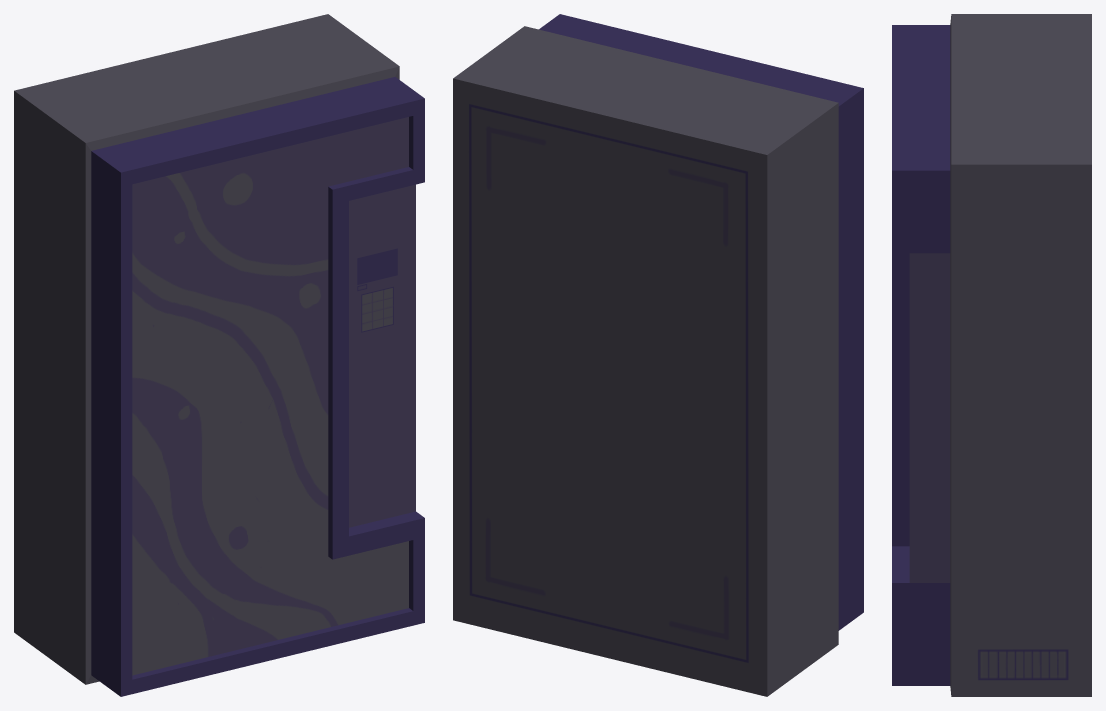
File: vending_export.fbx
3 views of the same model, side by side, from view 1: azimuth 30°, elevation 25°; view 2: azimuth 150°, elevation 25°; view 3: azimuth 270°, elevation 25° (orthographic).
Parts seen in each view (by area): view 1: pCube1; view 2: pCube1; view 3: pCube1.
Boxes of the visible parts, x1=… form: pCube1: x1=14, y1=14, x2=424, y2=696; pCube1: x1=453, y1=14, x2=863, y2=696; pCube1: x1=892, y1=14, x2=1091, y2=696.
Bounding box in the file's own units: 2.58 × 4.26 × 1.45.
Materials: 1 (1 with a texture image).
